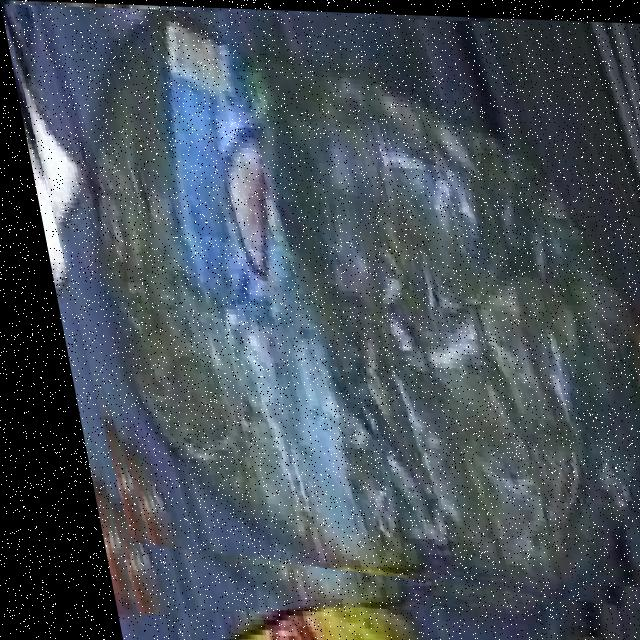plasticbottle: (1, 4, 640, 622)
